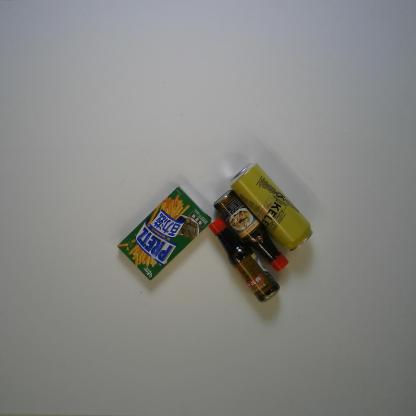Alcohol: (230, 161, 315, 253)
Dessert: (116, 185, 212, 282)
Seasoner: (212, 188, 290, 274), (208, 217, 280, 304)
